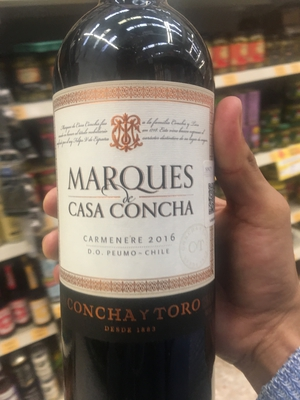marques de casa concha carmenere: (52, 6, 233, 392)
